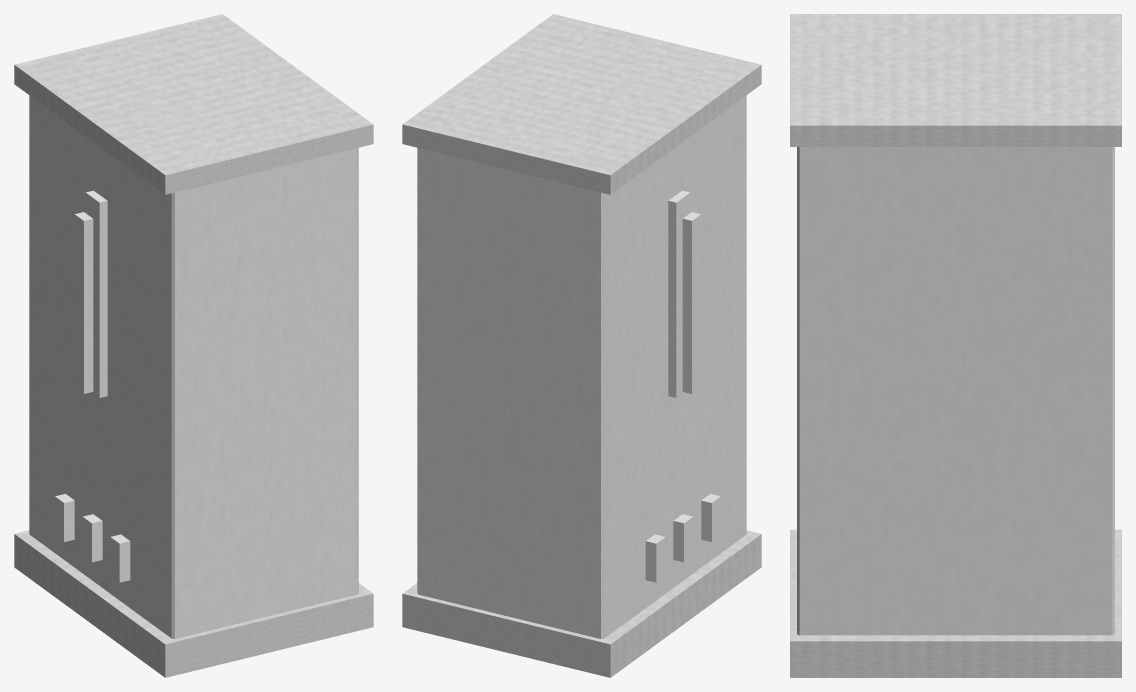
The model's file is undergroundfused1.obj.
The picture shows the model from 3 angles, left to right: view 1: azimuth 30°, elevation 25°; view 2: azimuth 150°, elevation 25°; view 3: azimuth 270°, elevation 25°; orthographic projection. The views are drawn at different scales.
Parts seen in each view (by area): view 1: Case, Trim, Door0, Fuse0, Services; view 2: Case, Trim, Door0, Fuse0, Services; view 3: Case, Trim.
Boxes of the visible parts, x1,y1,x2,y2 form: Case: (29, 95, 358, 638); Trim: (14, 14, 373, 677); Door0: (74, 212, 93, 393); Fuse0: (85, 190, 107, 397); Services: (55, 494, 130, 582); Case: (417, 95, 746, 638); Trim: (402, 14, 761, 677); Door0: (682, 212, 701, 393); Fuse0: (668, 190, 690, 397); Services: (645, 494, 720, 582); Case: (797, 147, 1114, 635); Trim: (790, 14, 1121, 677).
Bounding box in the file's own units: 0.82 × 1.8 × 0.98.
